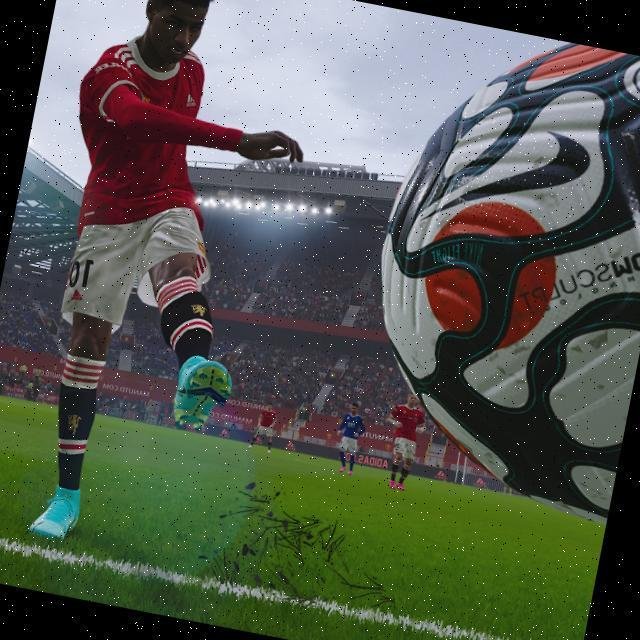Nike: (417, 102, 597, 252)
